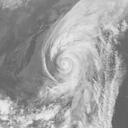cyclone: (41, 37, 101, 97)
